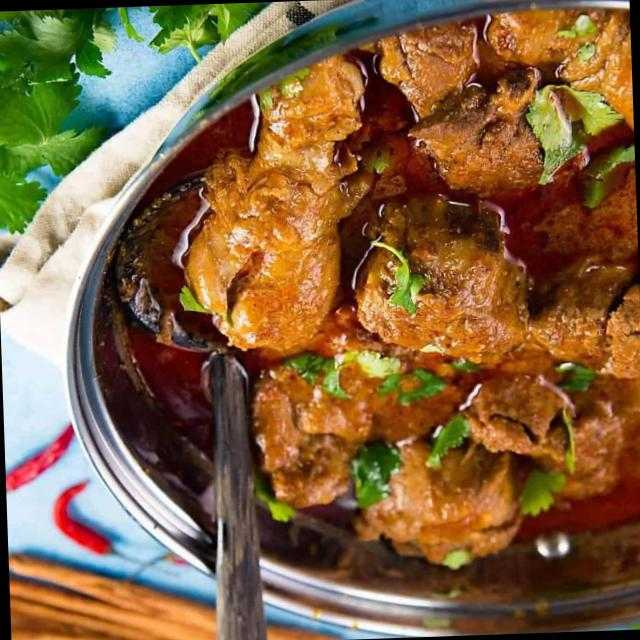chicken: (138, 32, 632, 580)
